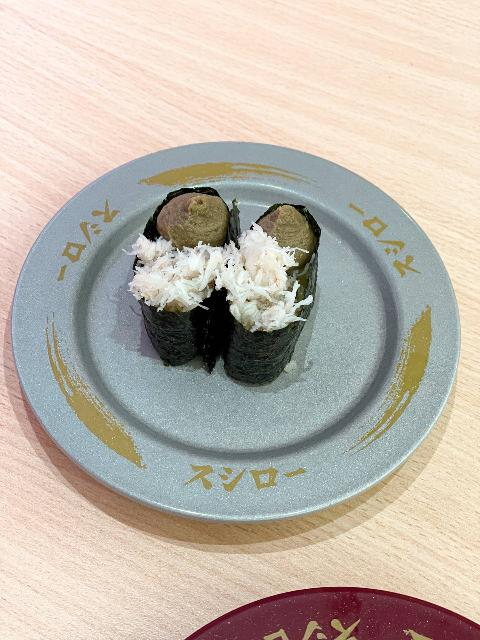janred: (170, 583, 480, 640)
janwhite: (20, 171, 480, 502)
